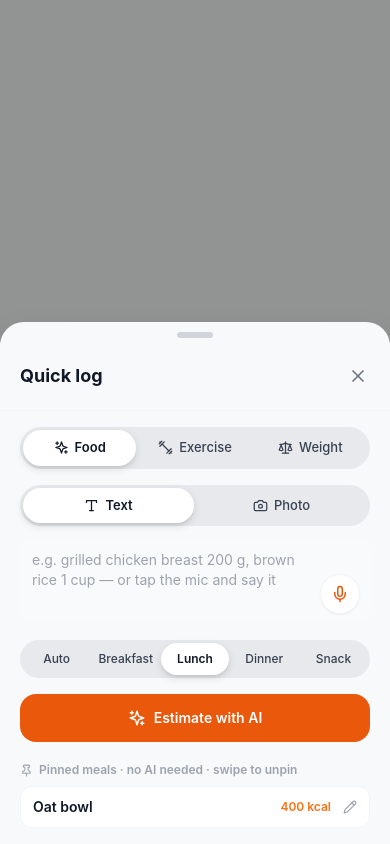
LogModal editing a pin › scales macros and items when calories change
Later steps or results of the test are not shown.
Click the button named "Edit Oat bowl" at [350, 807], box [331, 790, 369, 824]
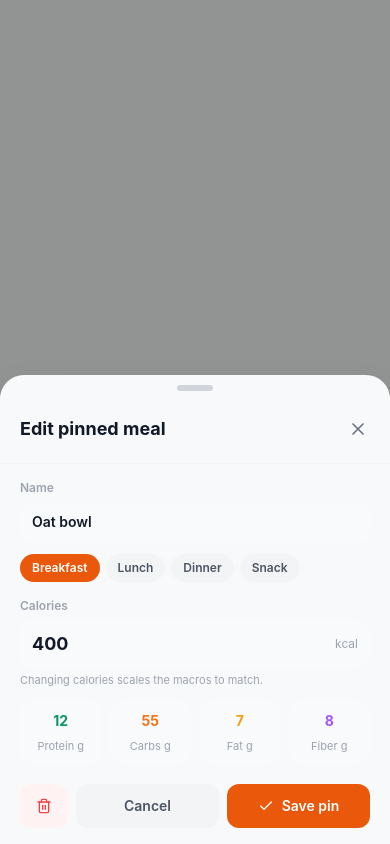
Replace the text in the number field labelled "Calories" with "200" at [184, 644], box [32, 630, 335, 658]
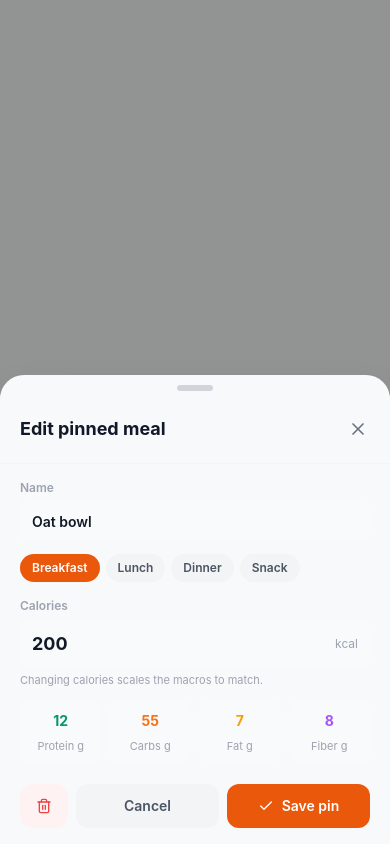
Leave the number field labelled "Calories", box [32, 630, 335, 658]
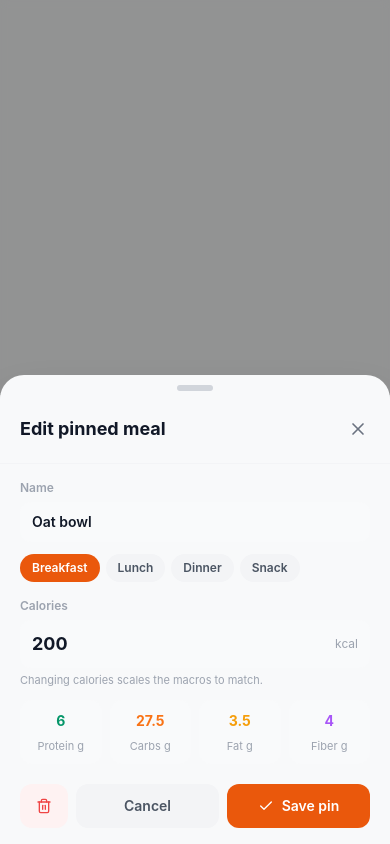
Now the field named "Protein (g)" holds "6", box [28, 711, 94, 731]
